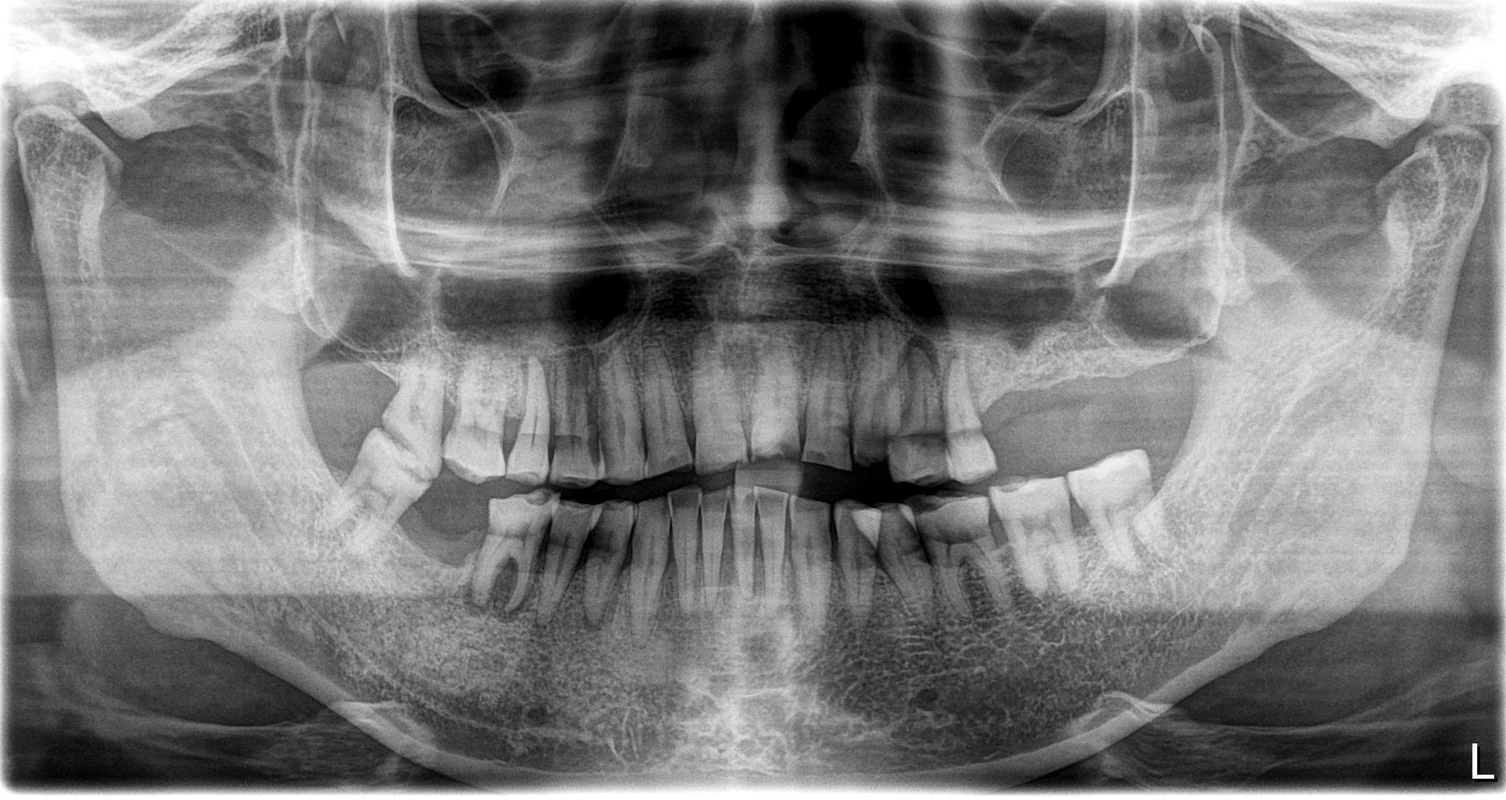Dental Caries: (493, 406, 529, 457)
Missing Tooth: (292, 318, 385, 467), (406, 483, 479, 580), (1092, 354, 1146, 450), (987, 367, 1032, 466), (1041, 356, 1085, 453), (1158, 347, 1202, 442)
